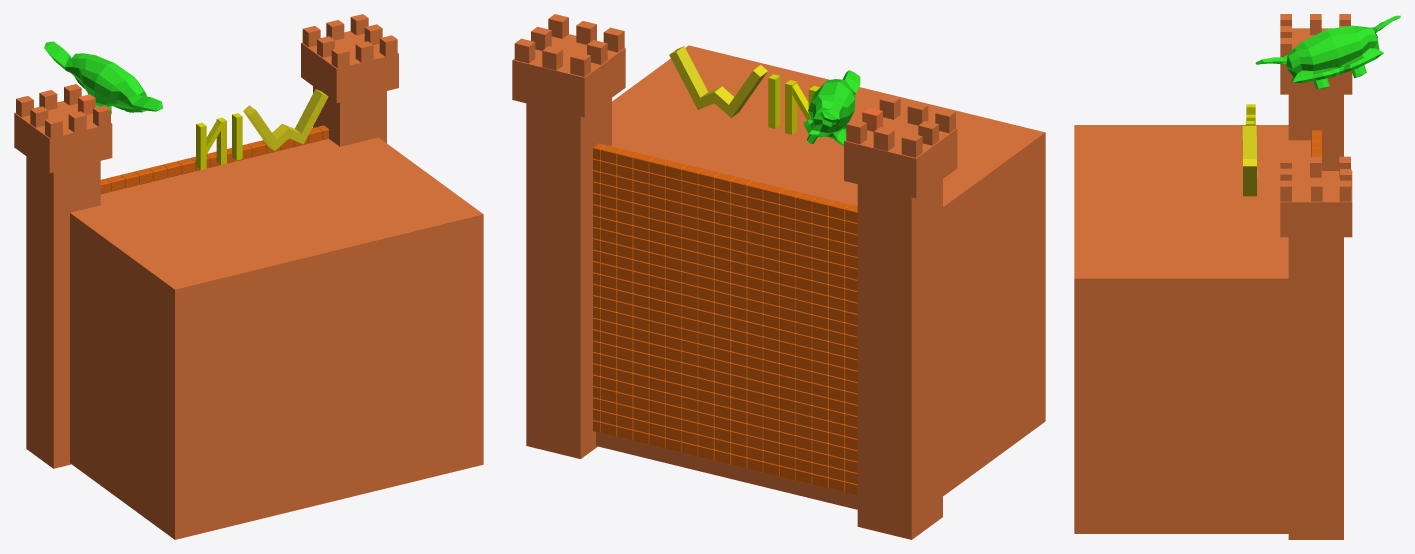
Rendered from mci2MAP.glb.
The picture shows the model from 3 angles, left to right: view 1: azimuth 30°, elevation 25°; view 2: azimuth 150°, elevation 25°; view 3: azimuth 270°, elevation 25°; orthographic projection. The views are drawn at different scales.
Visible parts, largest first — view 1: Suzanne, Cube.026, Cube; view 2: Suzanne, Cube, Cube.026; view 3: Suzanne, Cube.026.
Part boxes in pixels (x1,y1,x2,y2): Suzanne: (14,14,483,539); Cube.026: (196,89,328,169); Cube: (100,125,328,194); Suzanne: (512,14,1045,539); Cube: (593,143,857,495); Cube.026: (669,46,819,139); Suzanne: (1074,14,1400,539); Cube.026: (1242,104,1257,196).
Size of what is drawn, in the model's own units: 14.88 by 15.31 by 11.8.
